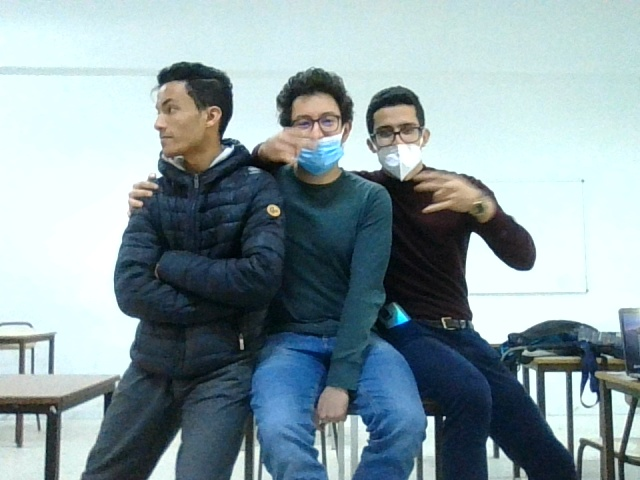mask_weared_incorrect: (292, 105, 344, 175), (375, 120, 425, 181)
without_mask: (134, 59, 240, 169)
